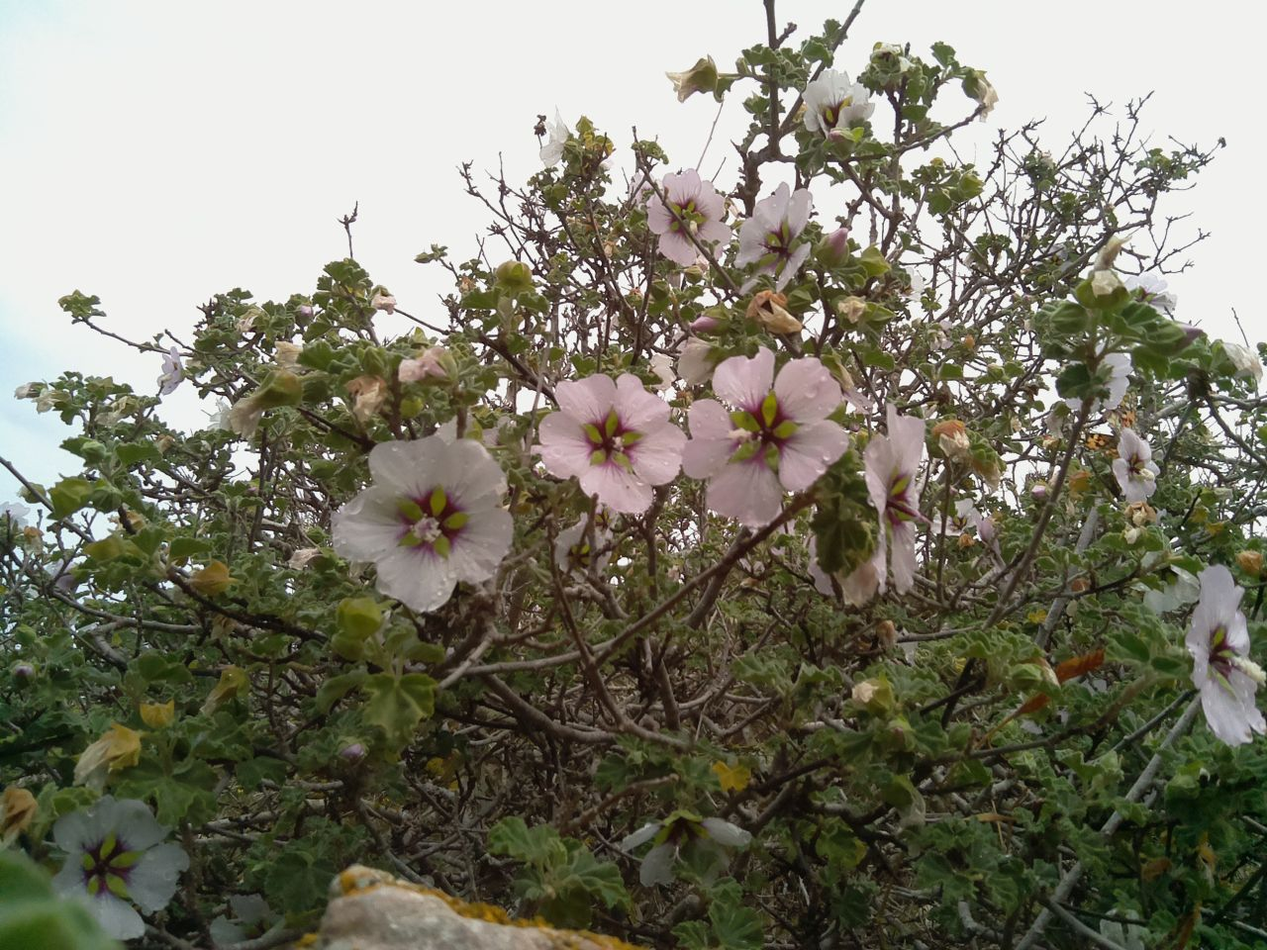Vanessa cardui: (1071, 382, 1150, 462)
